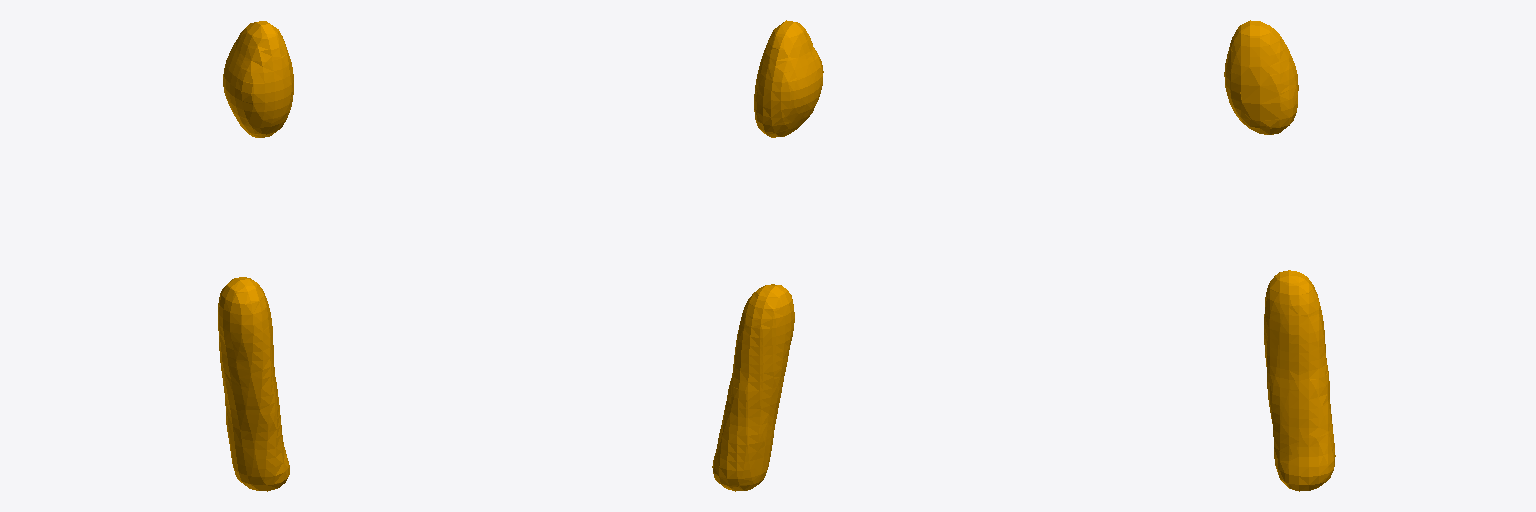
robot.urdf — 031_spoon:
<?xml version="1.0"?>
<robot name="031_spoon">
  <link name="base_link">
    <inertial>
      <origin xyz="-0.003414 -0.005793 0.083319" rpy="0 0 0" />
      <mass value="0.038567" />
      <inertia ixx="0.00015010" ixy="-0.00000089" ixz="0.00000758"
               iyy="0.00014830" iyz="0.00001676" izz="0.00000456" />
    </inertial>
    <visual>
      <geometry><mesh filename="031_spoon.stl" scale="1.0 1.0 1.0" /></geometry>
    </visual>
    <collision>
      <geometry><mesh filename="031_spoon_col.obj" scale="1.0 1.0 1.0" /></geometry>
    </collision>
    <contact>
      <lateral_friction value="1.0"/>
    </contact>
  </link>
</robot>

--- Render facts (derived) ---
Views: 3 orthographic renders of the robot side by side, from view 1: azimuth 30°, elevation 25°; view 2: azimuth 150°, elevation 25°; view 3: azimuth 270°, elevation 25°.
Robot: 031_spoon — 1 links, 0 joints (none); root link base_link; default pose: every joint at zero.
Visible links, largest first — view 1: base_link; view 2: base_link; view 3: base_link.
Boxes of the visible links, left/top/right/bottom form: base_link: left=218, top=21, right=293, bottom=491; base_link: left=712, top=20, right=823, bottom=491; base_link: left=1224, top=20, right=1335, bottom=491.
Size in the robot's own frame: 0.0318 by 0.0413 by 0.1863 metres.
1 mesh visuals loaded from 1 distinct referenced files (1 binary STL).
